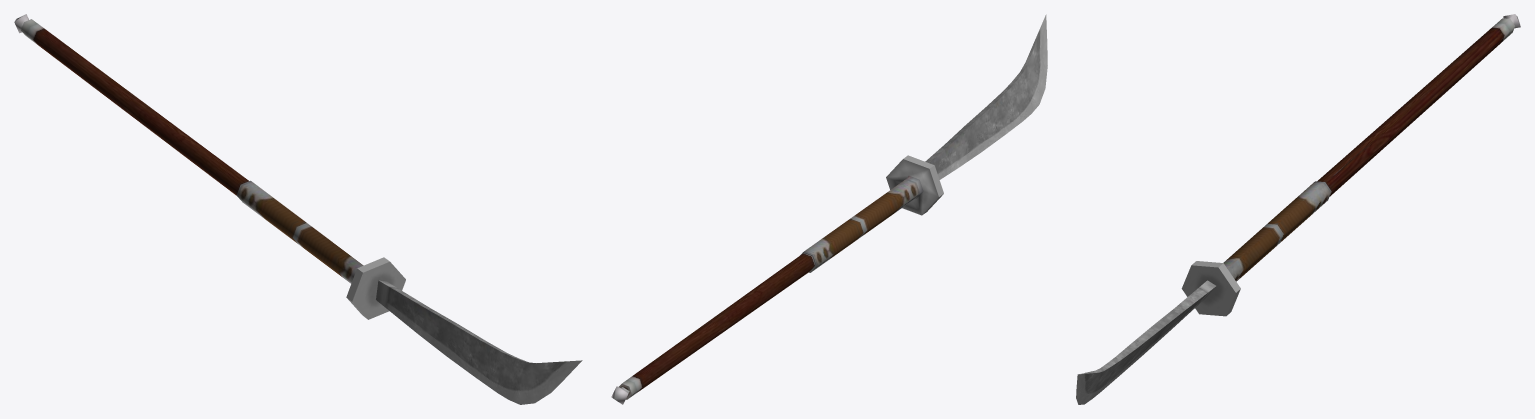
Rendered from weapon-bronzeweapons.glb.
3 views of the same model, side by side, from view 1: azimuth 30°, elevation 25°; view 2: azimuth 150°, elevation 25°; view 3: azimuth 330°, elevation 25° (orthographic). The views are drawn at different scales.
Bounding box in the file's own units: 0.204 × 0.2205 × 2.79.
Materials: 1 (1 with a texture image).
